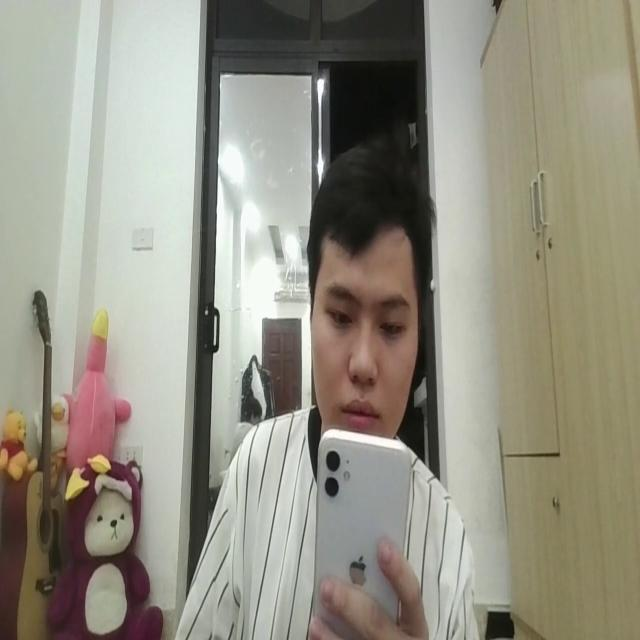phone: (314, 424, 414, 640)
student: (173, 139, 480, 640)
